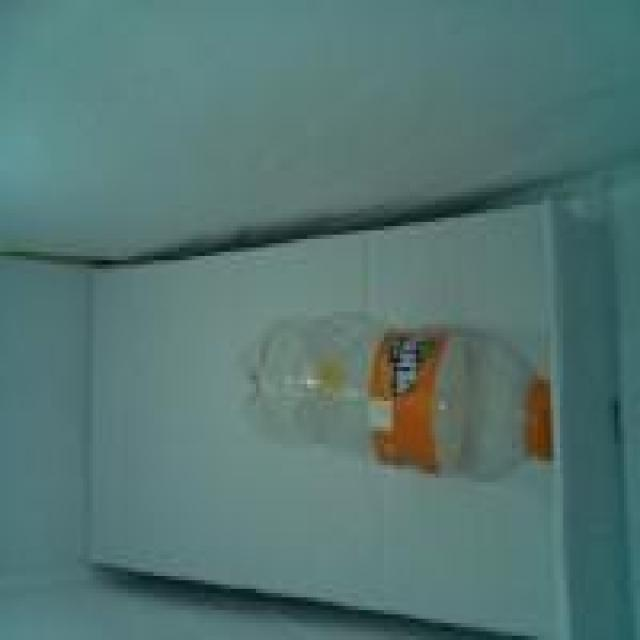bottle: (226, 301, 580, 503)
